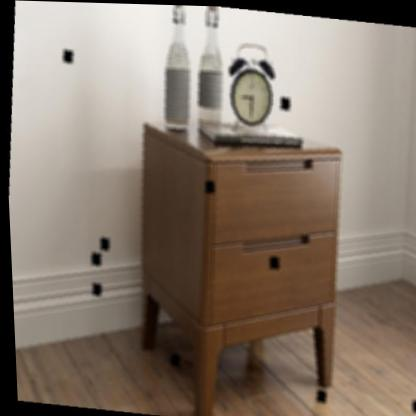Nightstand: (129, 120, 357, 395)
